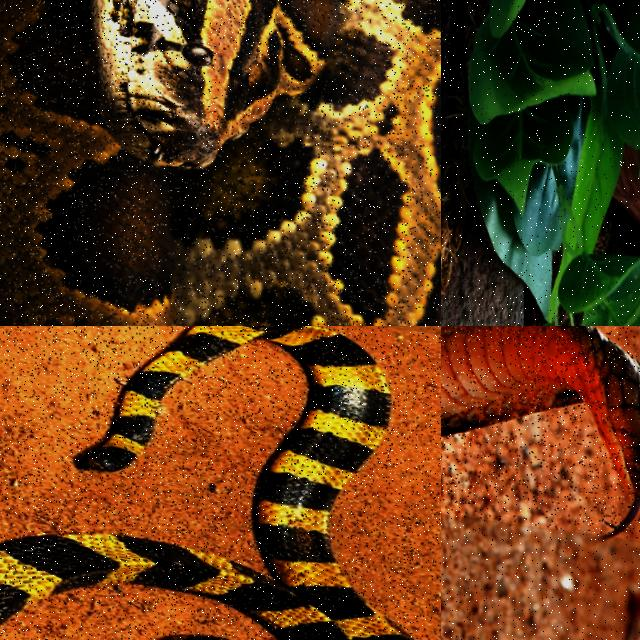Bungarus fasciatus: (0, 326, 411, 639)
Calloselasma rhodostoma: (441, 0, 448, 110)
Ophiophagus hannah: (441, 326, 639, 535)
Python bivittatus: (0, 0, 440, 325)
snake: (0, 0, 440, 325), (0, 326, 411, 639), (441, 326, 639, 535), (441, 0, 448, 110)
